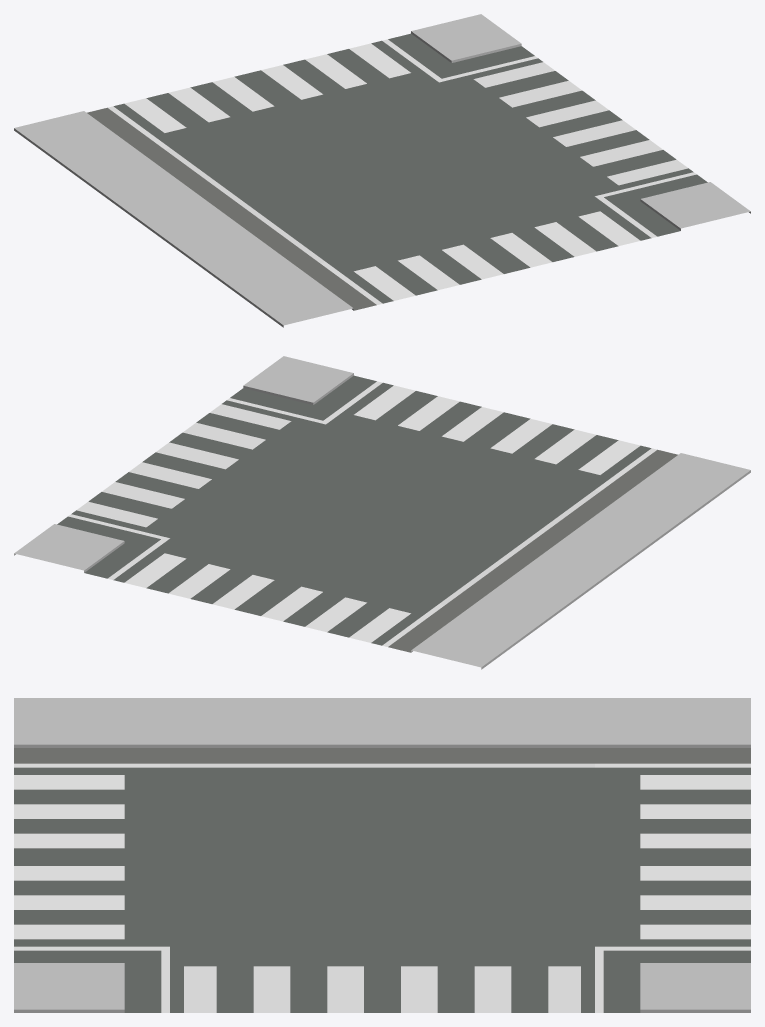
The model's file is T-Cross.fbx.
3 renders of one model, top to bottom at view 1: azimuth 30°, elevation 25°; view 2: azimuth 150°, elevation 25°; view 3: azimuth 270°, elevation 25°, orthographic. The views are drawn at different scales.
Parts seen in each view (by area): view 1: Plane.004; view 2: Plane.004; view 3: Plane.004.
Boxes of the visible parts, x1,y1,x2,y2 form: Plane.004: (14, 14, 750, 327); Plane.004: (14, 356, 750, 669); Plane.004: (14, 698, 750, 1012).
Size of the model in its own units: 15 by 0.075 by 15.
